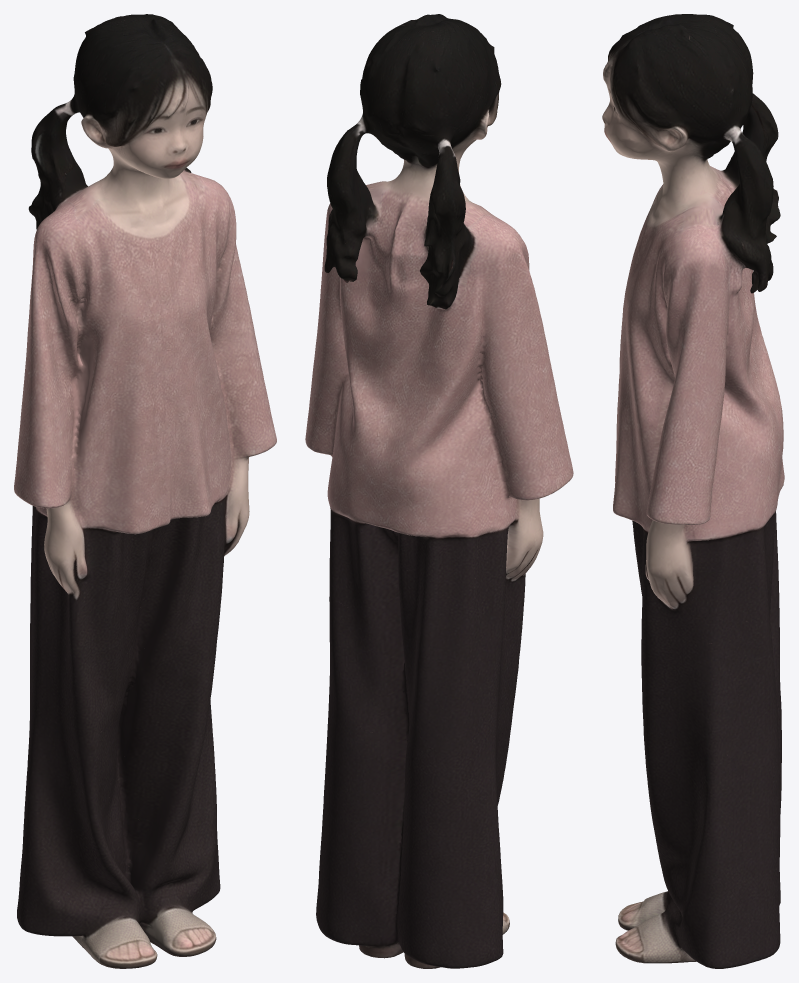
File: Model_Emgai_1003101035_texture.glb
The picture shows the model from 3 angles, left to right: view 1: azimuth 30°, elevation 25°; view 2: azimuth 150°, elevation 25°; view 3: azimuth 270°, elevation 25°; orthographic projection.
Bounding box in the file's own units: 0.5456 × 1.9 × 0.3404.
Materials: 1 (1 with a texture image).
